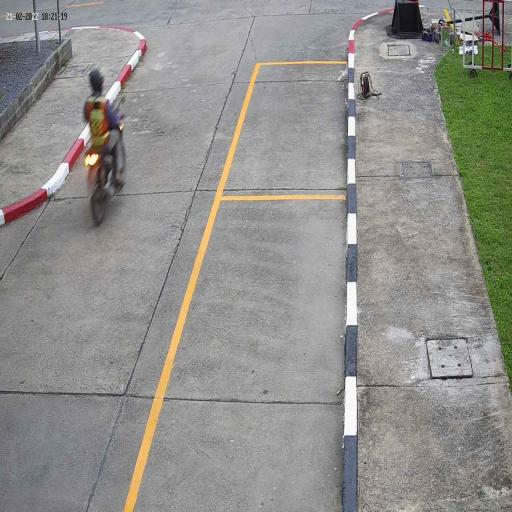motorcycle: (86, 146, 121, 225)
